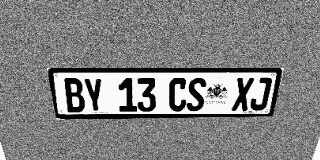1: (117, 78, 137, 112)
3: (137, 78, 156, 112)
B: (62, 78, 86, 113)
C: (168, 78, 188, 111)
J: (249, 78, 273, 110)
S: (186, 78, 207, 111)
X: (231, 78, 254, 111)
Y: (82, 78, 105, 112)
